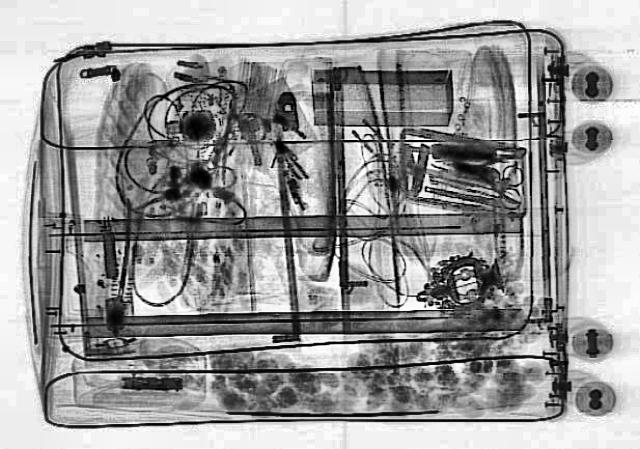Scissors: (418, 145, 542, 211)
